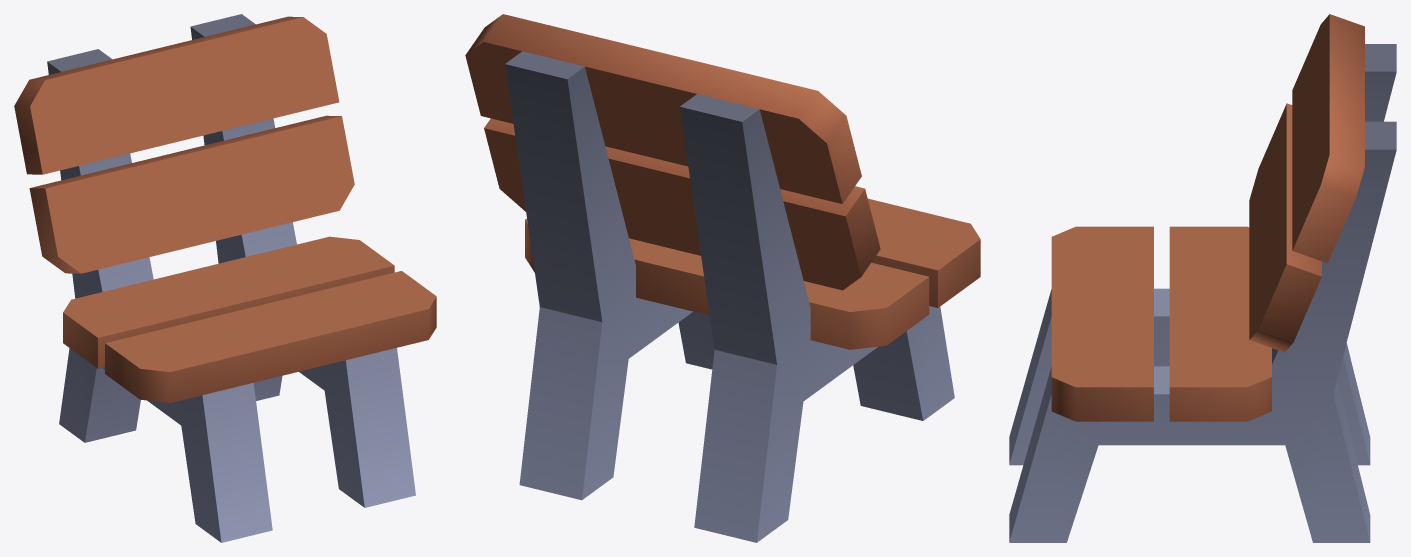
Rendered from bench-short.glb.
The picture shows the model from 3 angles, left to right: view 1: azimuth 30°, elevation 25°; view 2: azimuth 150°, elevation 25°; view 3: azimuth 270°, elevation 25°; orthographic projection. The views are drawn at different scales.
Visible parts, largest first — view 1: bench-short; view 2: bench-short; view 3: bench-short.
Part boxes in pixels (left/top/right/bottom): bench-short: left=14, top=14, right=436, bottom=542; bench-short: left=465, top=14, right=980, bottom=542; bench-short: left=1009, top=14, right=1396, bottom=542.
Bounding box in the file's own units: 0.621 × 0.7305 × 0.6321.
